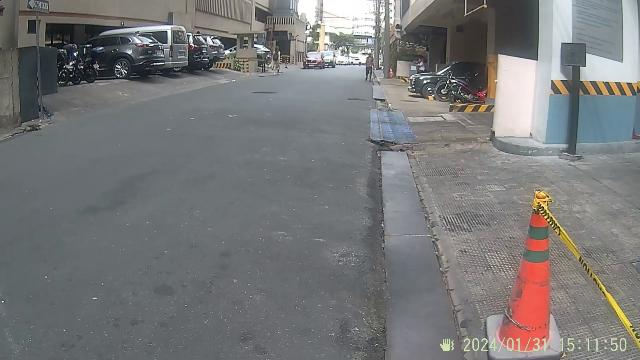construction_materials: (470, 175, 600, 345)
street_sign: (28, 0, 52, 94)
utility_post: (367, 2, 397, 82)
